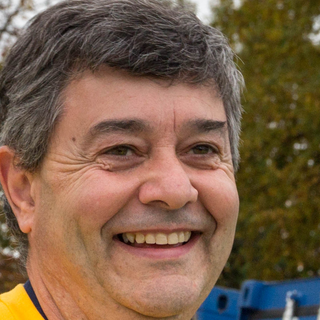eye: (92, 138, 147, 166), (174, 135, 226, 164)
